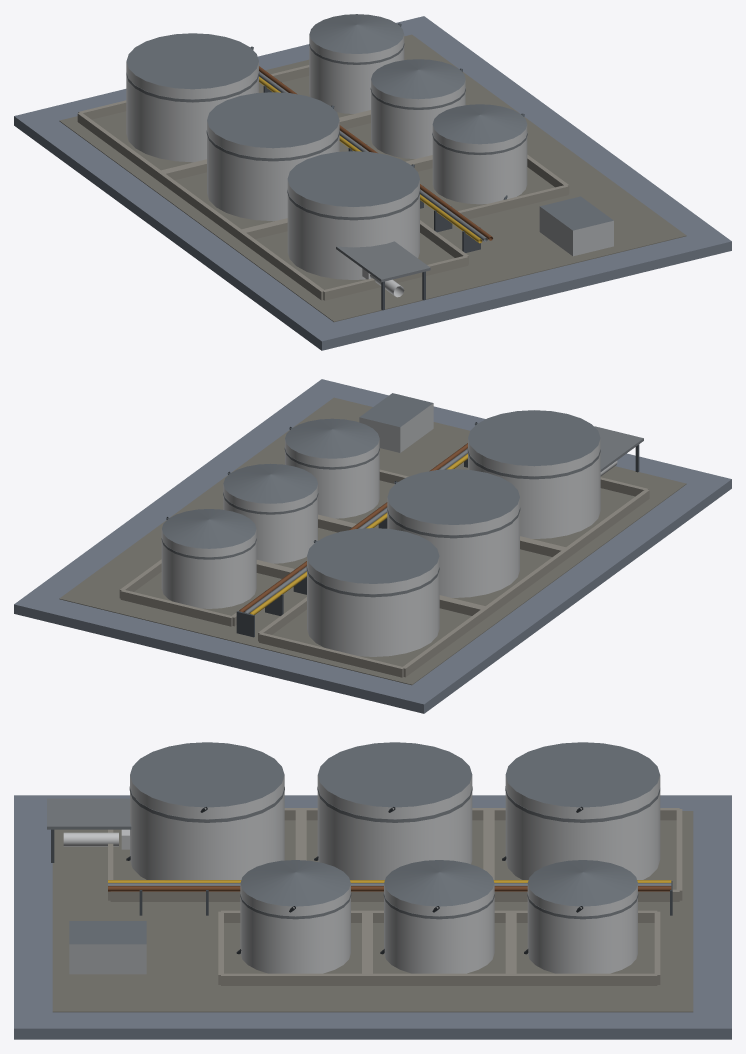
File: fuel_depot.glb
The picture shows the model from 3 angles, top to bottom: view 1: azimuth 30°, elevation 25°; view 2: azimuth 150°, elevation 25°; view 3: azimuth 270°, elevation 25°; orthographic projection. The views are drawn at different scales.
Visible parts, largest first — view 1: fuel_depot; view 2: fuel_depot; view 3: fuel_depot.
Boxes of the visible parts, x1,y1,x2,y2 form: fuel_depot: [14, 14, 731, 350]; fuel_depot: [14, 379, 731, 713]; fuel_depot: [14, 742, 731, 1039].
Bounding box in the file's own units: 100 × 19.58 × 130.
